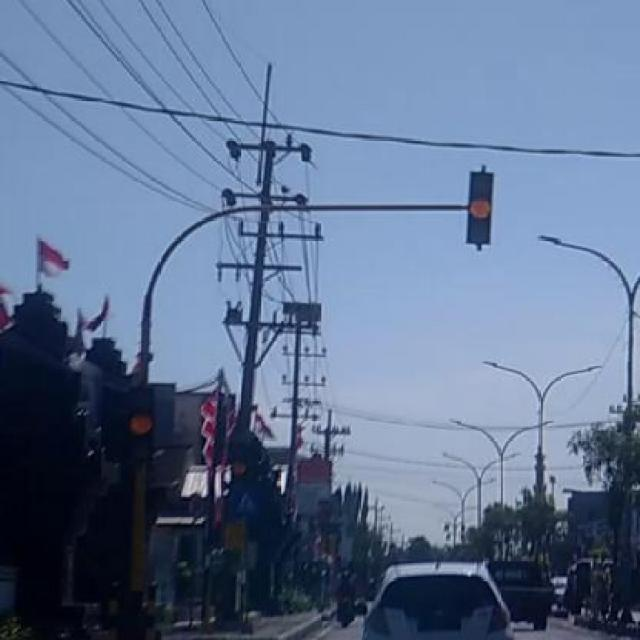traffic light: (123, 386, 157, 478), (465, 169, 497, 246)
